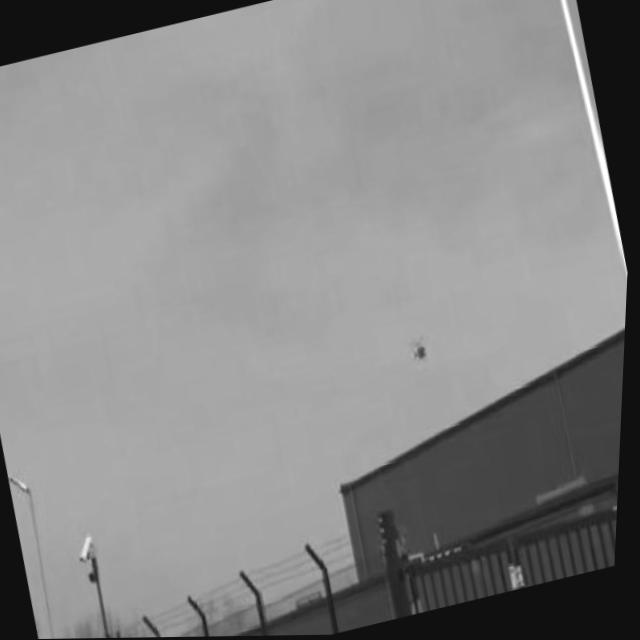helikopter: (399, 327, 444, 378)
